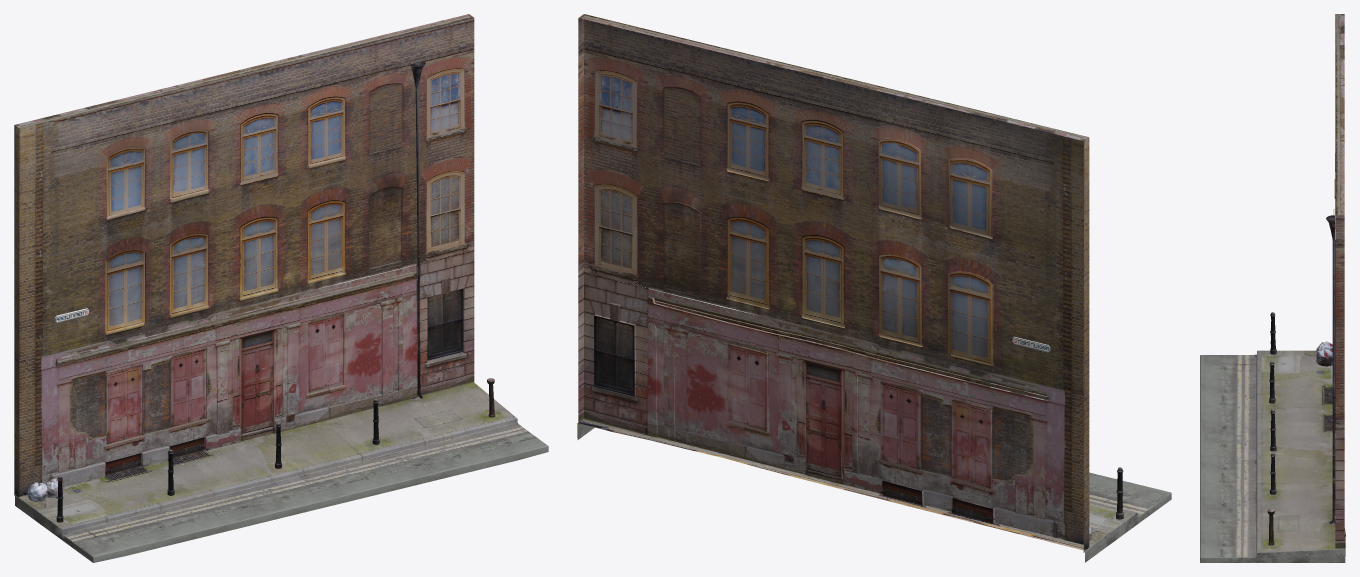
Rendered from Princelet_Street_-_Low_Poly.glb.
The picture shows the model from 3 angles, left to right: view 1: azimuth 30°, elevation 25°; view 2: azimuth 150°, elevation 25°; view 3: azimuth 270°, elevation 25°; orthographic projection. The views are drawn at different scales.
Parts seen in each view (by area): view 1: unnamed (×4); view 2: unnamed (×3); view 3: unnamed (×8).
Part boxes in pixels (x1,y1,x2,y2): unnamed (×4): [14, 14, 548, 562]; unnamed (×3): [577, 14, 1171, 562]; unnamed (×8): [1200, 14, 1345, 562].
Size of the model in its own units: 11.71 by 9.36 by 3.56.
Materials: 6 (6 with a texture image).
